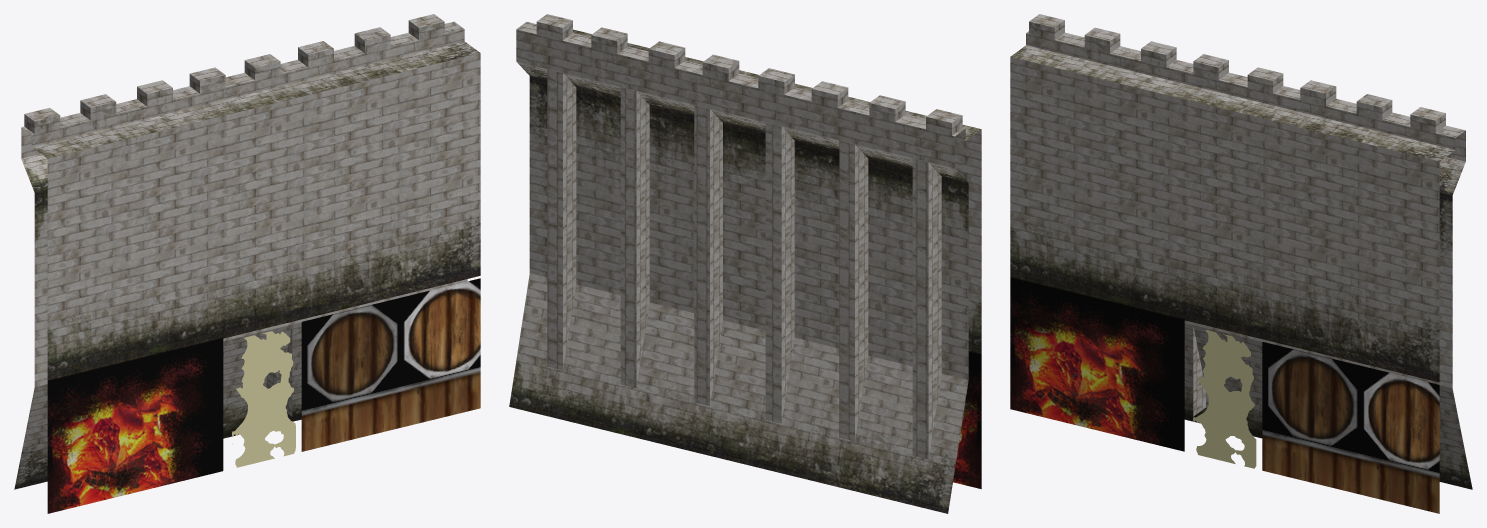
File: rempart.FBX
3 views of the same model, side by side, from view 1: azimuth 30°, elevation 25°; view 2: azimuth 150°, elevation 25°; view 3: azimuth 330°, elevation 25° (orthographic). The views are drawn at different scales.
Visible parts, largest first — view 1: rempart; view 2: rempart; view 3: rempart.
Part boxes in pixels (left/top/right/bottom): rempart: left=14, top=14, right=480, bottom=513; rempart: left=509, top=14, right=981, bottom=513; rempart: left=1010, top=14, right=1472, bottom=513.
Bounding box in the file's own units: 18.65 × 15.64 × 2.48.
